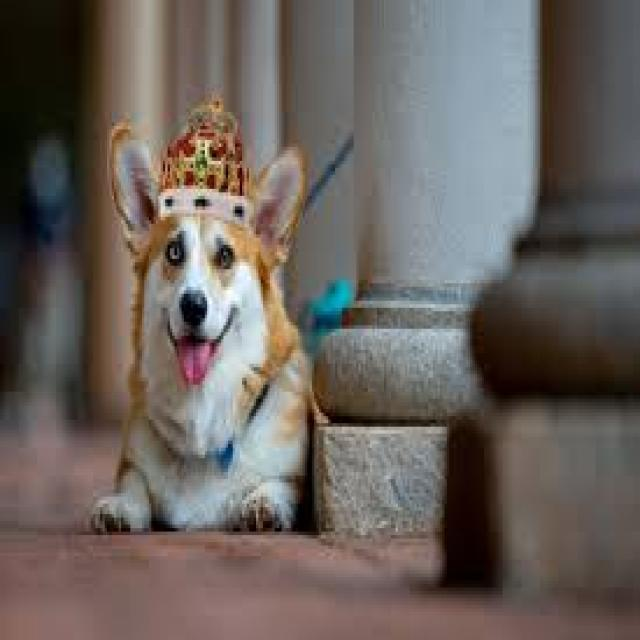CORGI: (95, 95, 318, 572)
